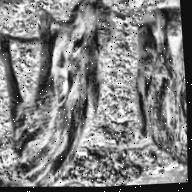boar: (0, 0, 112, 192)
